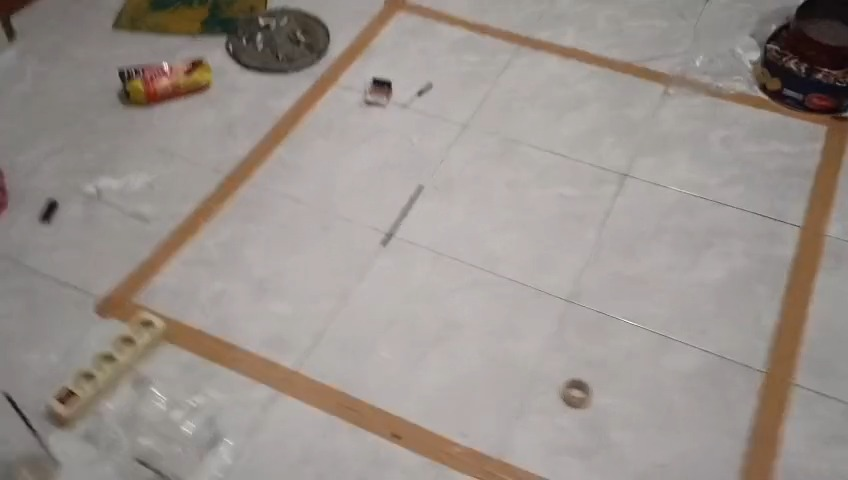floor marking: (97, 0, 679, 479), (690, 82, 847, 479)
